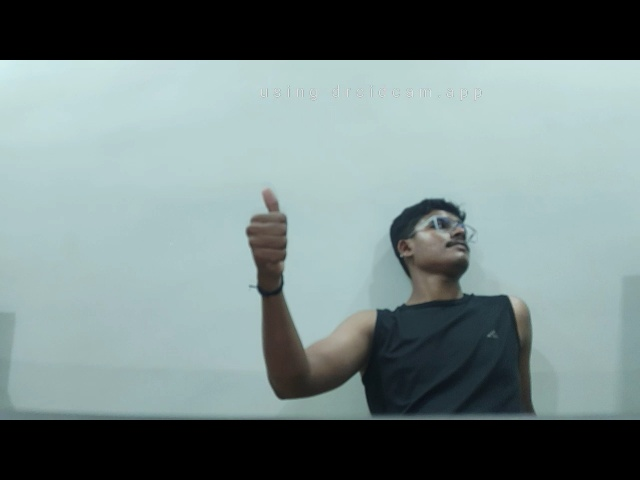thanks: (233, 175, 298, 295)
